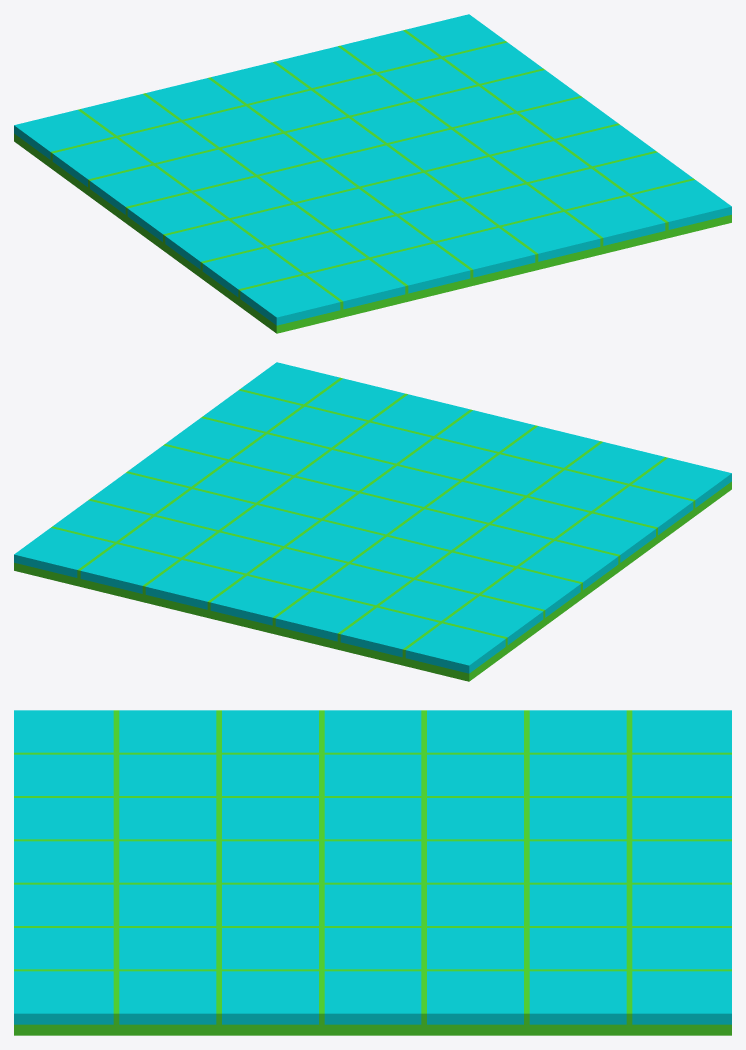
The model's file is land.fbx.
3 views of the same model, one above another, from view 1: azimuth 30°, elevation 25°; view 2: azimuth 150°, elevation 25°; view 3: azimuth 270°, elevation 25° (orthographic). The views are drawn at different scales.
Parts seen in each view (by area): view 1: Cube.001; view 2: Cube.001; view 3: Cube.001.
Boxes of the visible parts, x1,y1,x2,y2 form: Cube.001: (14, 14, 731, 333); Cube.001: (14, 362, 731, 681); Cube.001: (14, 710, 731, 1035).
Size of the model in its own units: 769 by 26.16 by 769.
